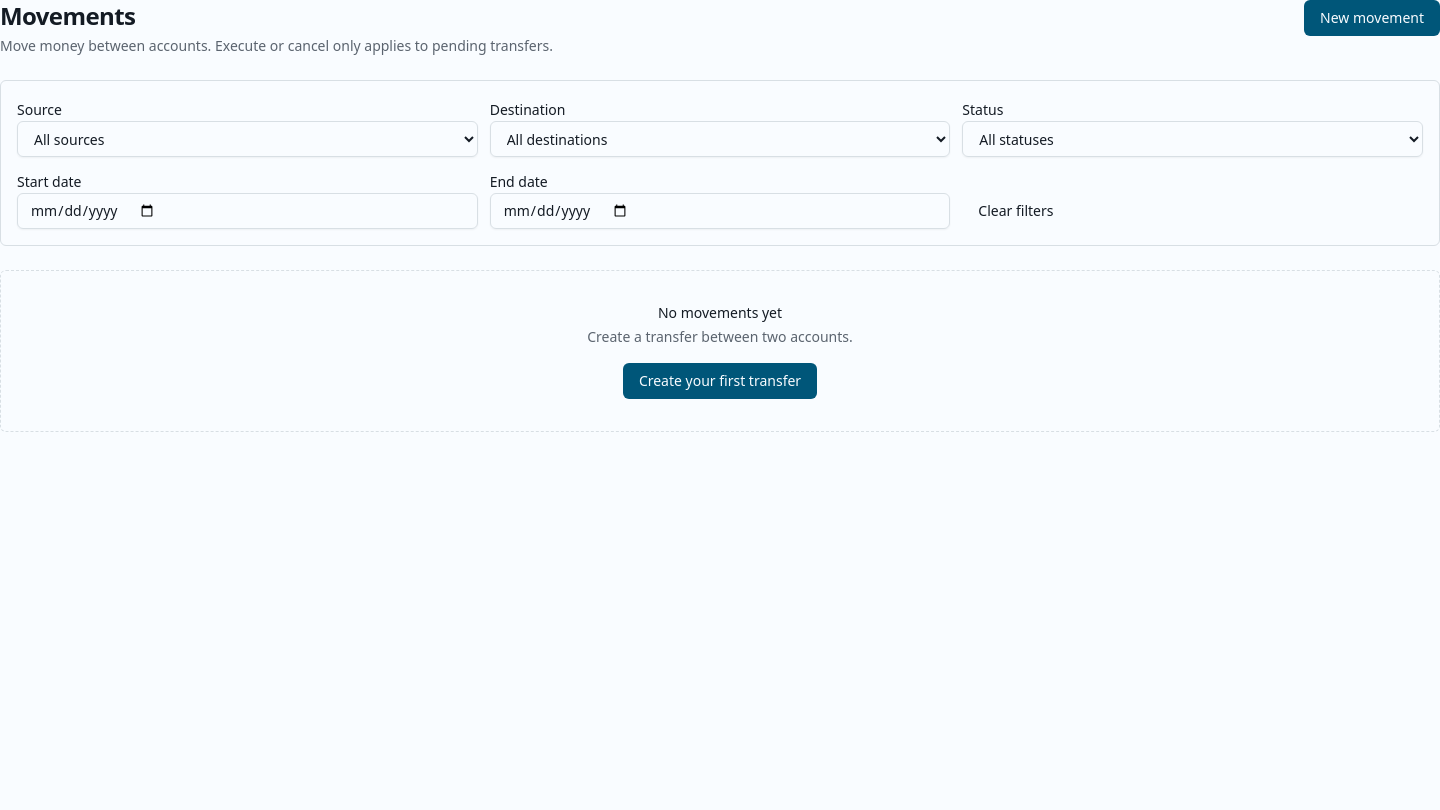
Test case: MovementsPage › creates a movement through the dialog
The width and height of the screenshot is (1440, 810).
Expected: the text "No movements yet" is shown, [658,303,782,322]
Click the button "New movement": (1372, 18) [1304,0,1439,36]
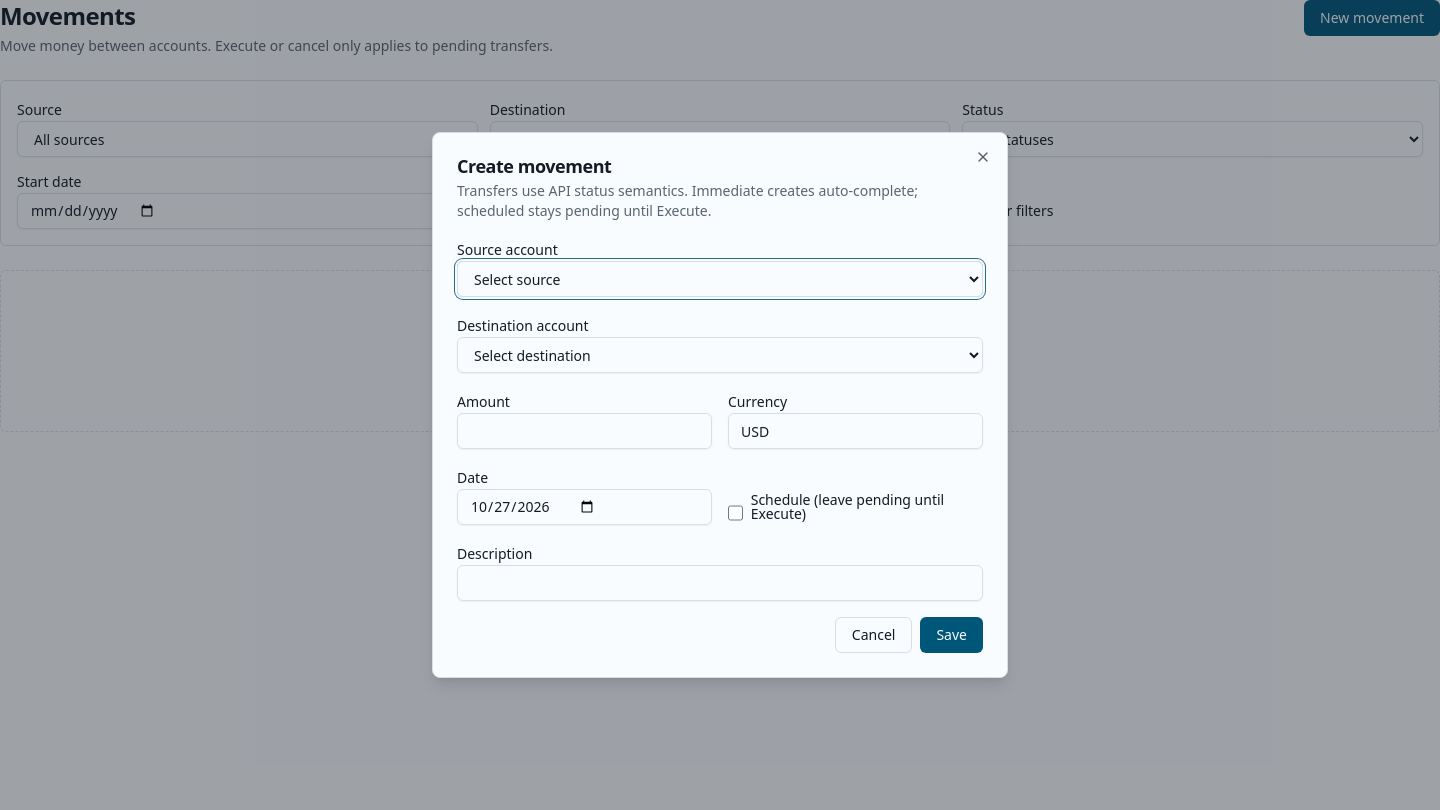
Select "Checking" in the dropdown labelled "Source account": (720, 279) [457,261,983,297]
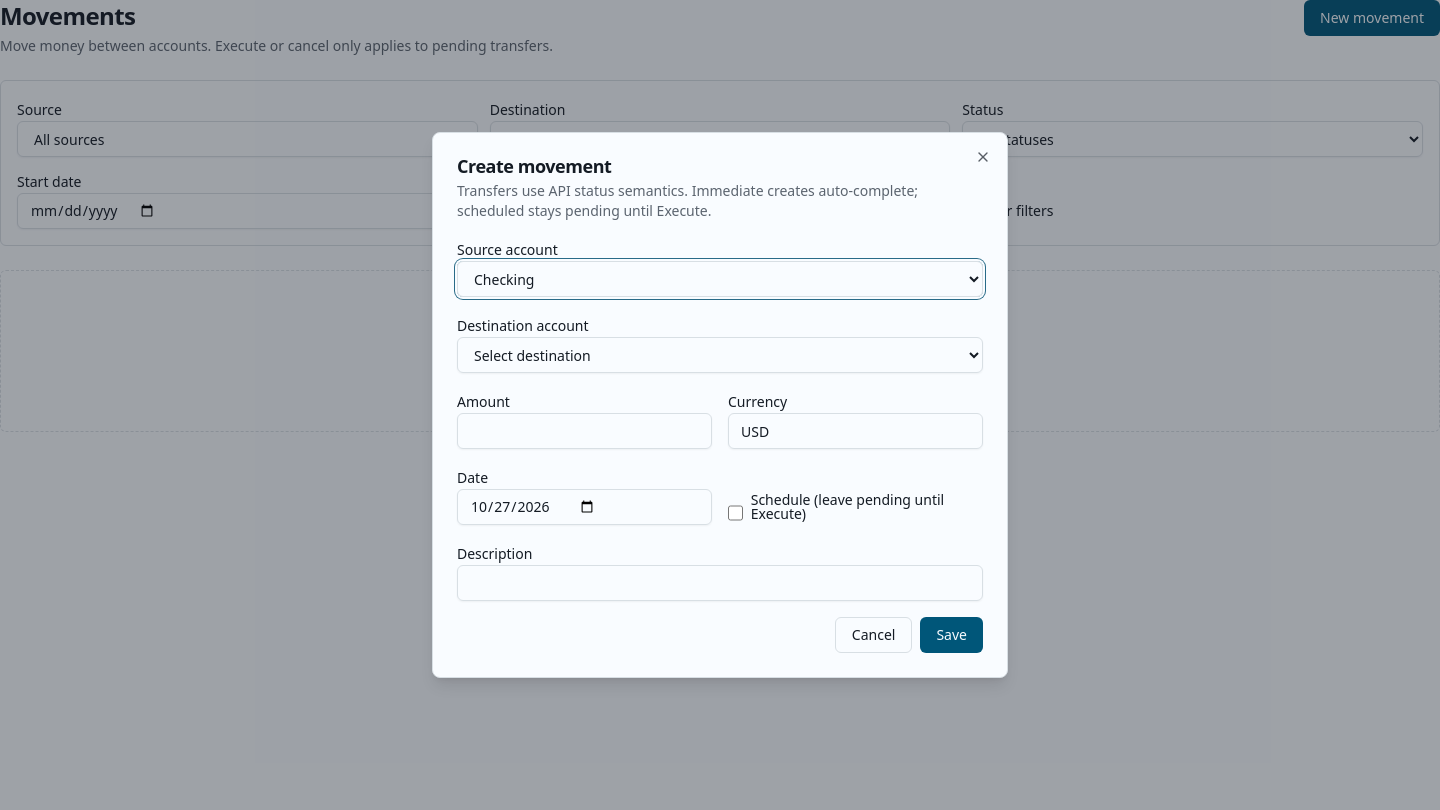
Select "Savings" in the dropdown labelled "Destination account": (720, 355) [457,337,983,373]
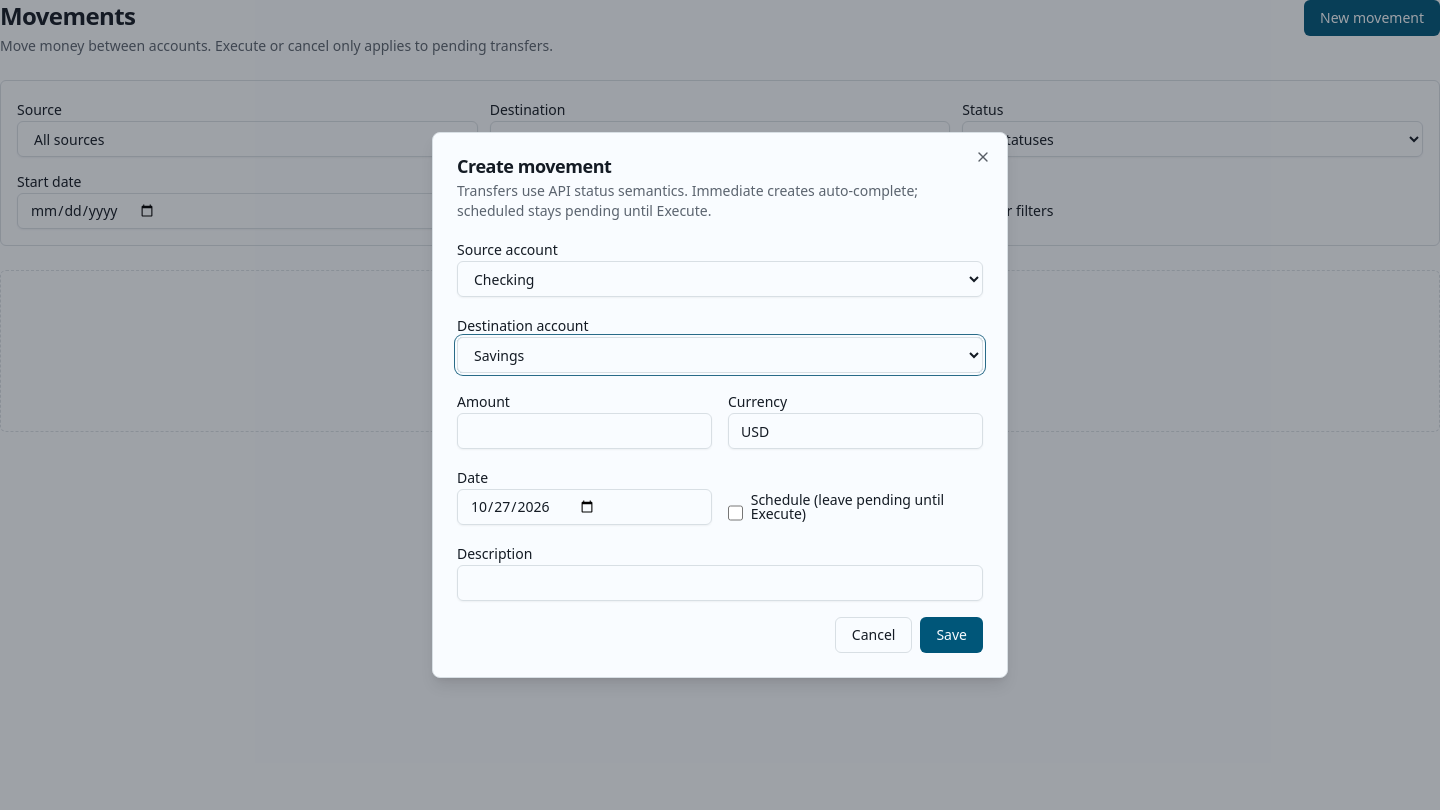
In the field labelled "Amount": (584, 431) [457,413,712,449], type "15"
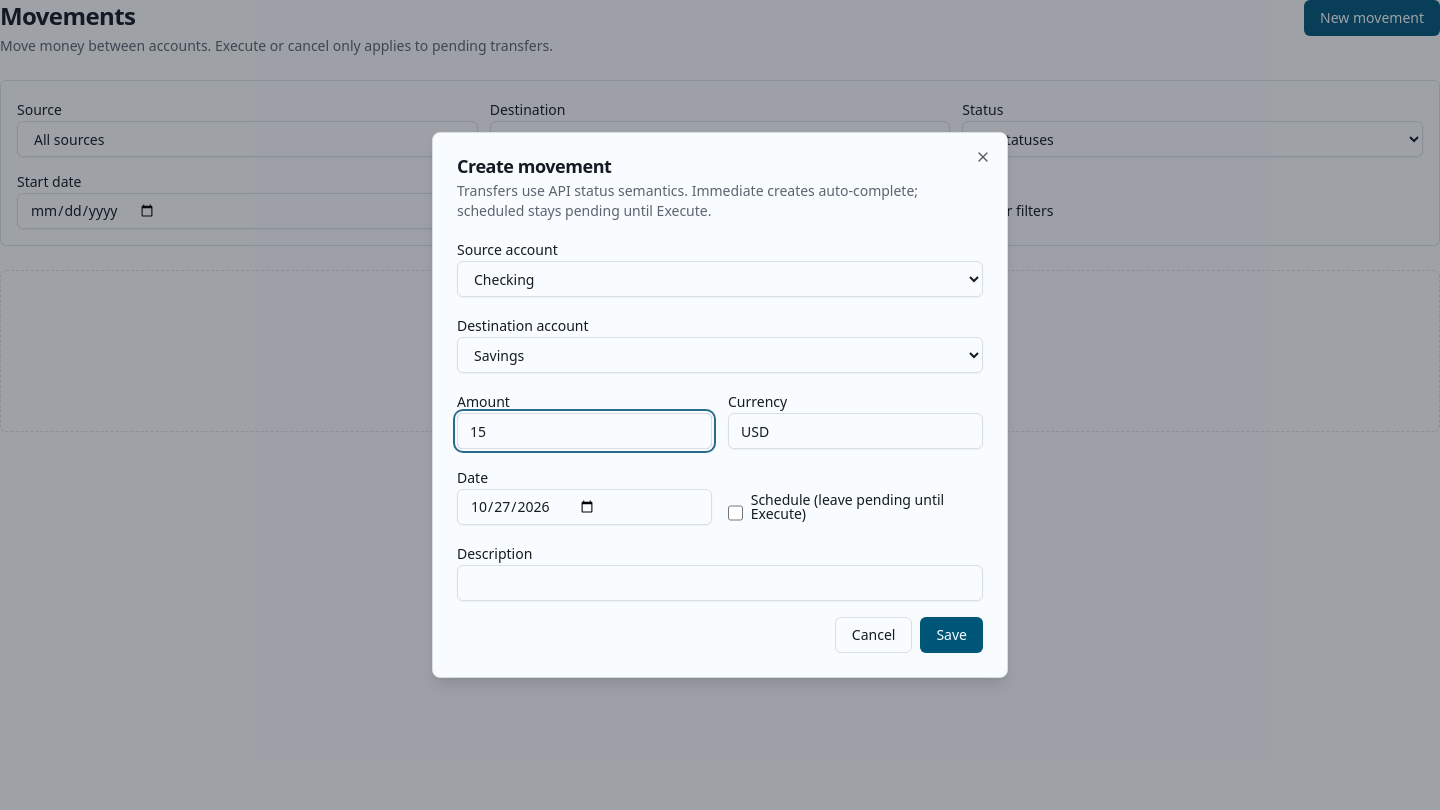
In the field labelled "Description": (720, 583) [457,565,983,601], type "New transfer"
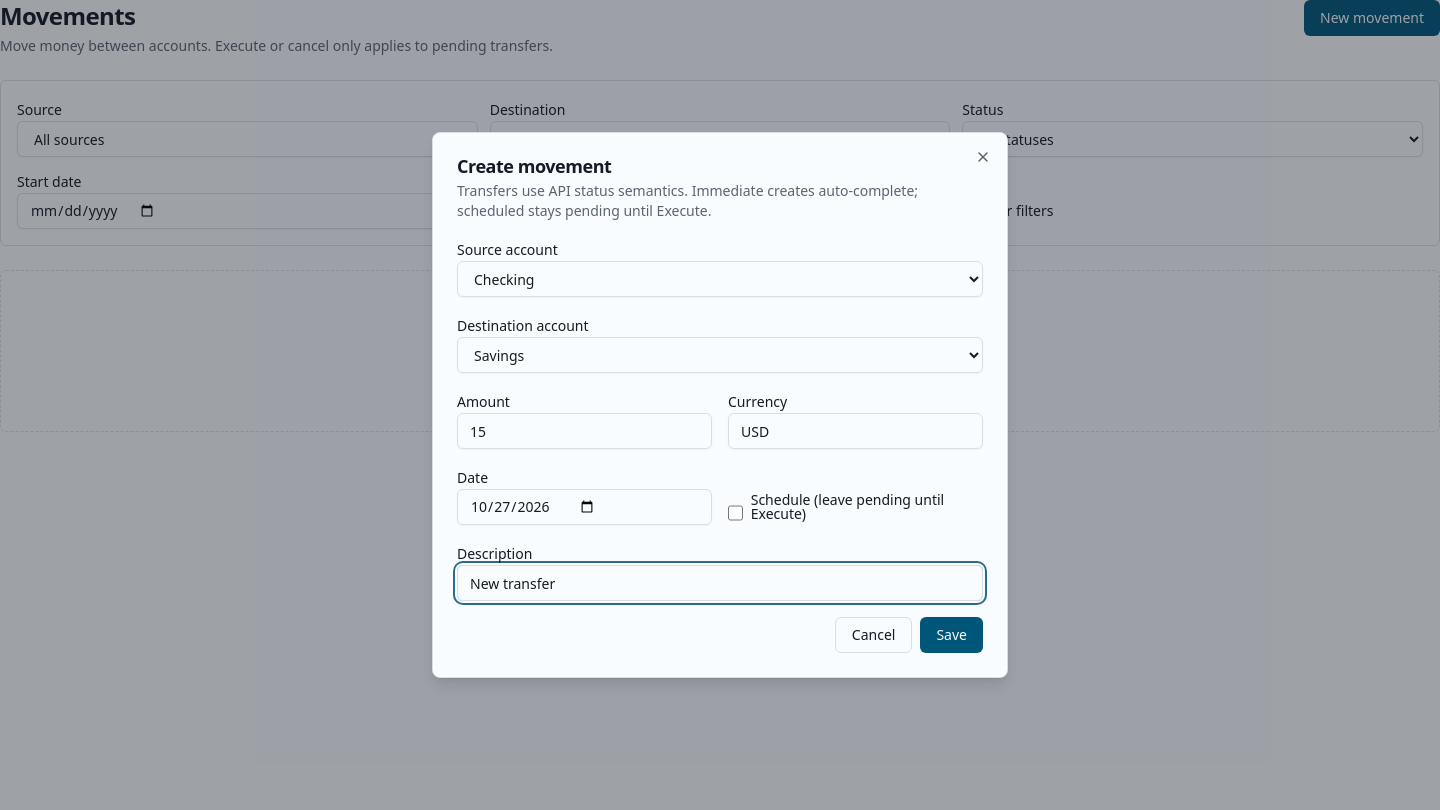
Click the button "Save": (952, 635) [920,617,983,653]
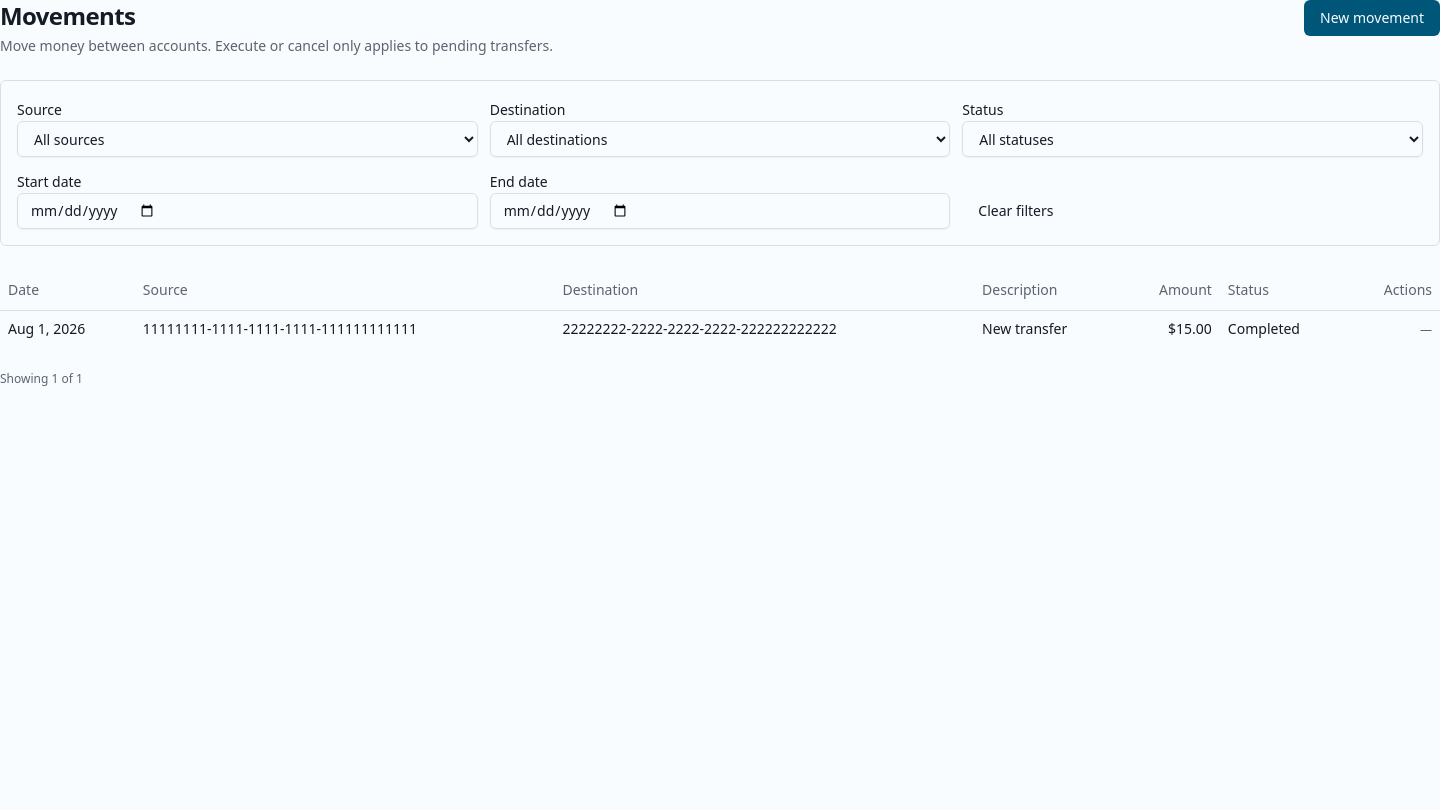
Expected: the text "New transfer" is shown, [974,310,1120,346]
